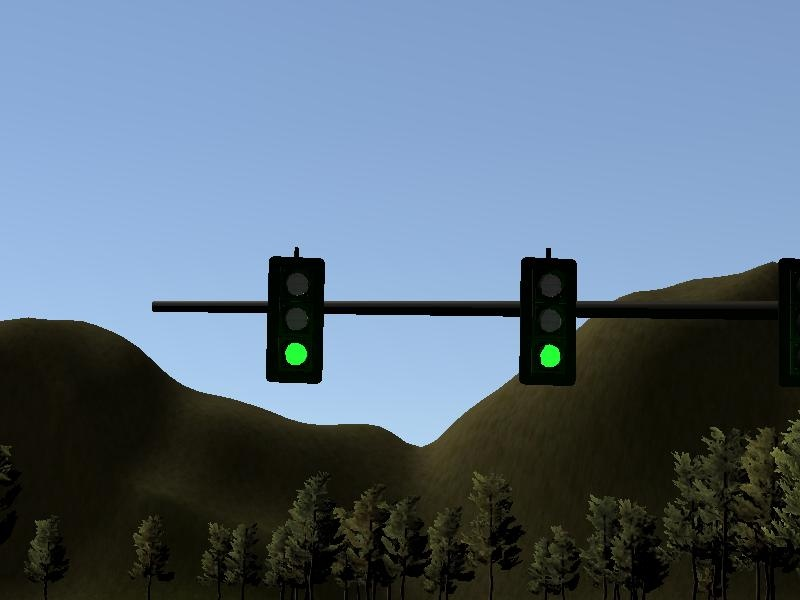green: (268, 256, 324, 387), (521, 256, 577, 387)
